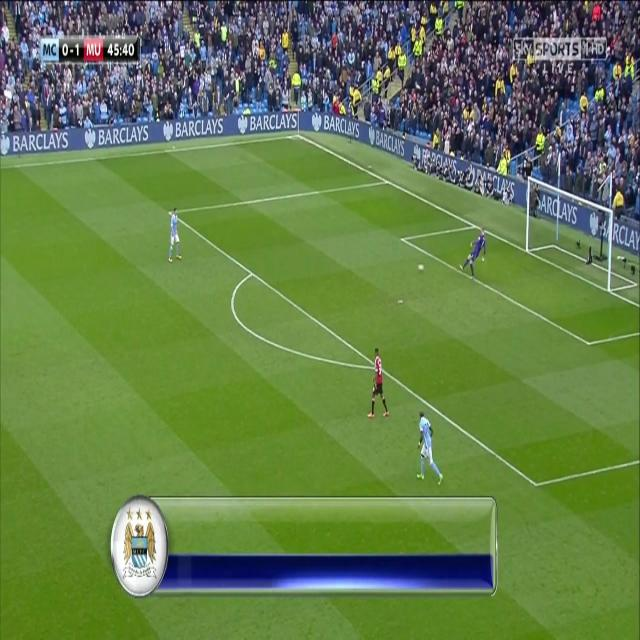Ball: (416, 262, 425, 273)
Goalkeeper: (458, 226, 490, 280)
Player: (416, 409, 445, 486), (366, 344, 392, 424), (166, 206, 184, 267)
